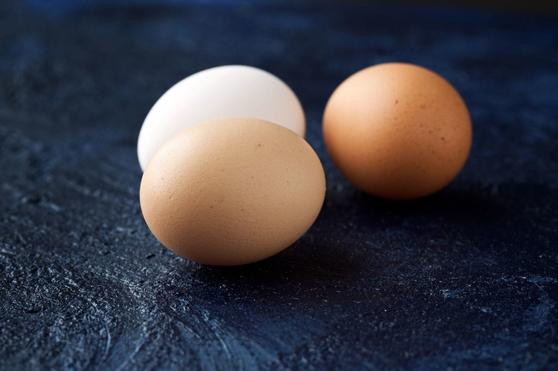egg: (138, 114, 326, 264), (319, 65, 474, 203)
